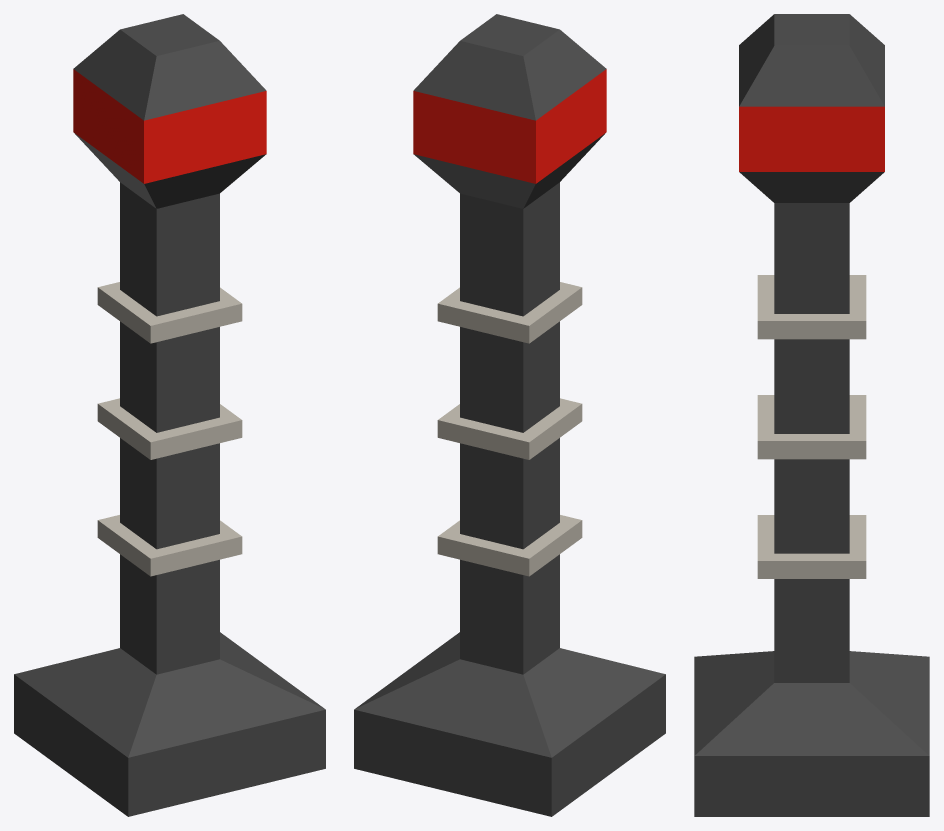
The model's file is 06 Antenna.FBX.glb.
3 renders of one model, left to right at view 1: azimuth 30°, elevation 25°; view 2: azimuth 150°, elevation 25°; view 3: azimuth 270°, elevation 25°, orthographic. The views are drawn at different scales.
Visible parts, largest first — view 1: Box085.2; view 2: Box085.2; view 3: Box085.2.
Boxes of the visible parts, bbox=[...] form: Box085.2: bbox=[14, 14, 325, 816]; Box085.2: bbox=[354, 14, 665, 816]; Box085.2: bbox=[694, 14, 929, 816].
Size of the model in its own units: 350 by 1211 by 350.
